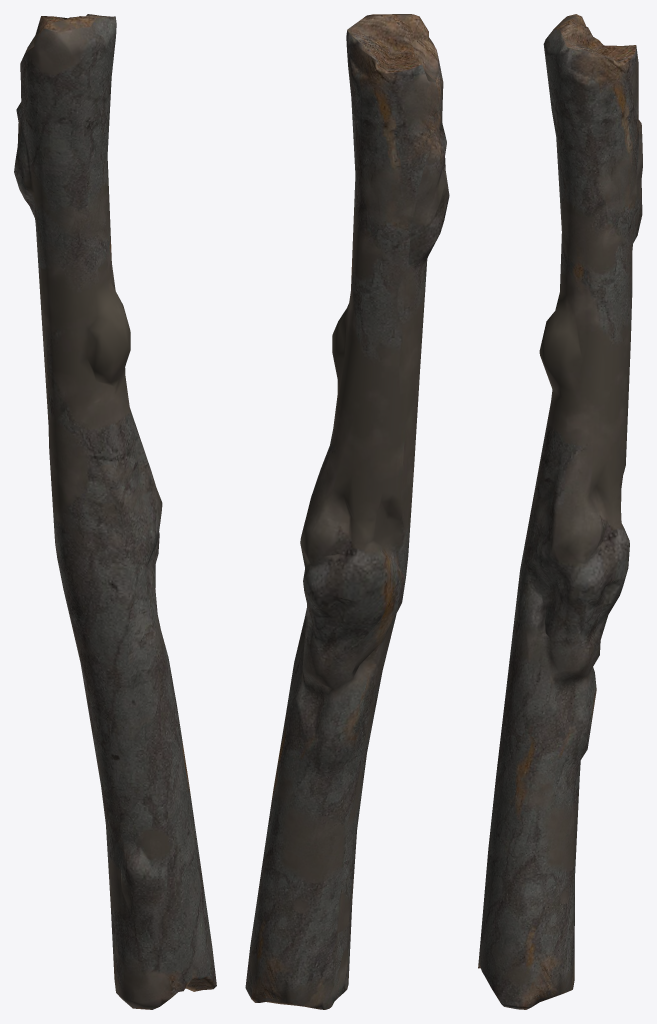
The model's file is SM_LogSmall_01.glb.
3 renders of one model, left to right at view 1: azimuth 30°, elevation 25°; view 2: azimuth 210°, elevation 25°; view 3: azimuth 270°, elevation 25°, orthographic. The views are drawn at different scales.
Visible parts, largest first — view 1: SM_LogSmall_01; view 2: SM_LogSmall_01; view 3: SM_LogSmall_01.
Part boxes in pixels (<box>): SM_LogSmall_01: <box>14,14,216,1009</box>; SM_LogSmall_01: <box>245,14,449,1009</box>; SM_LogSmall_01: <box>478,14,642,1009</box>.
Bounding box in the file's own units: 0.2569 × 1.62 × 0.257.
1 material, 1 textured.
